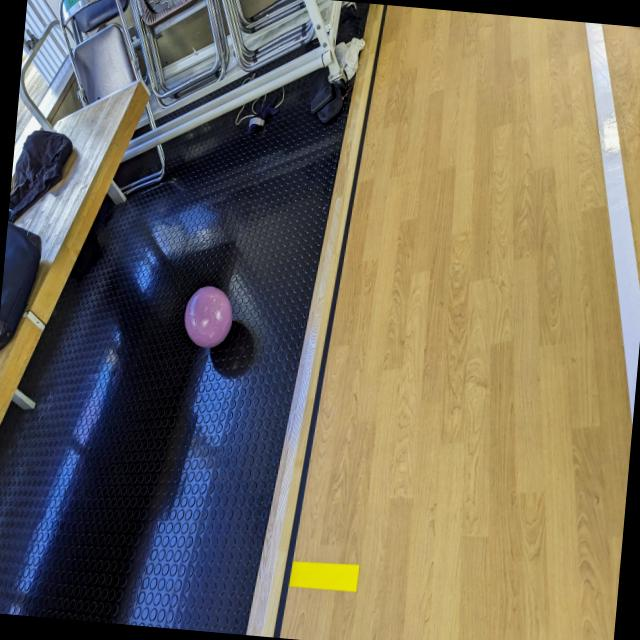purple_ball: (181, 284, 235, 350)
